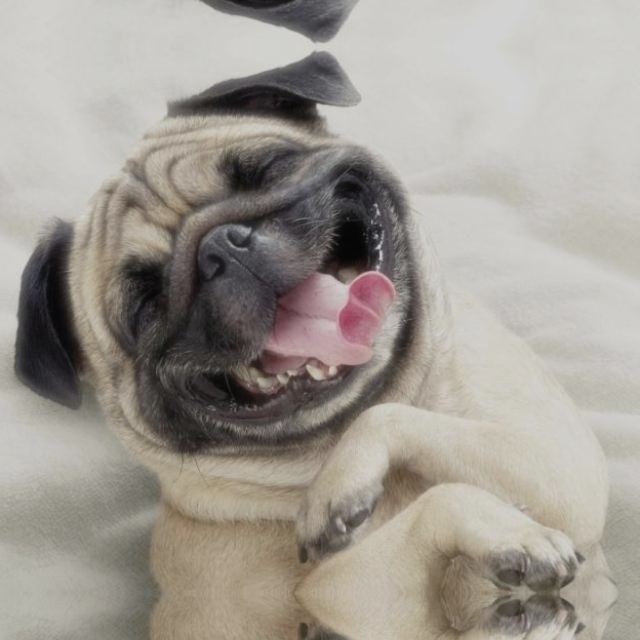dog: (5, 49, 491, 456), (5, 0, 491, 43)
